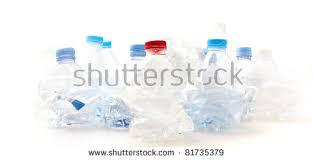Plastic: (35, 41, 96, 132), (136, 29, 177, 144), (194, 31, 233, 142), (88, 35, 127, 138), (116, 39, 151, 144), (77, 30, 110, 134), (227, 43, 260, 143)
